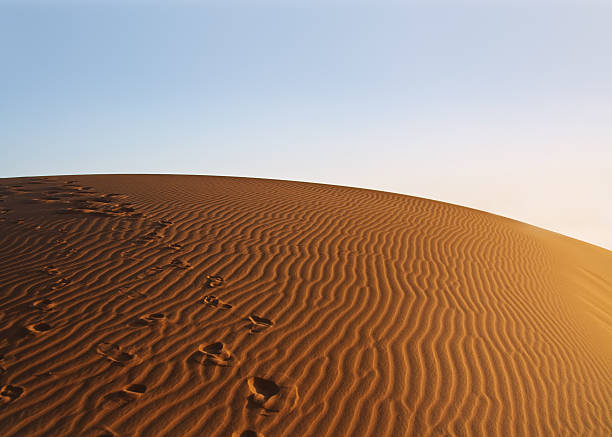animal_foot_print: (247, 376, 298, 413), (193, 342, 234, 366), (96, 342, 137, 365), (248, 314, 273, 332), (0, 385, 24, 402), (133, 313, 165, 325), (202, 295, 231, 308), (32, 298, 56, 311), (25, 322, 52, 333), (124, 384, 145, 395), (232, 429, 263, 436), (205, 275, 223, 287), (99, 432, 114, 436)
